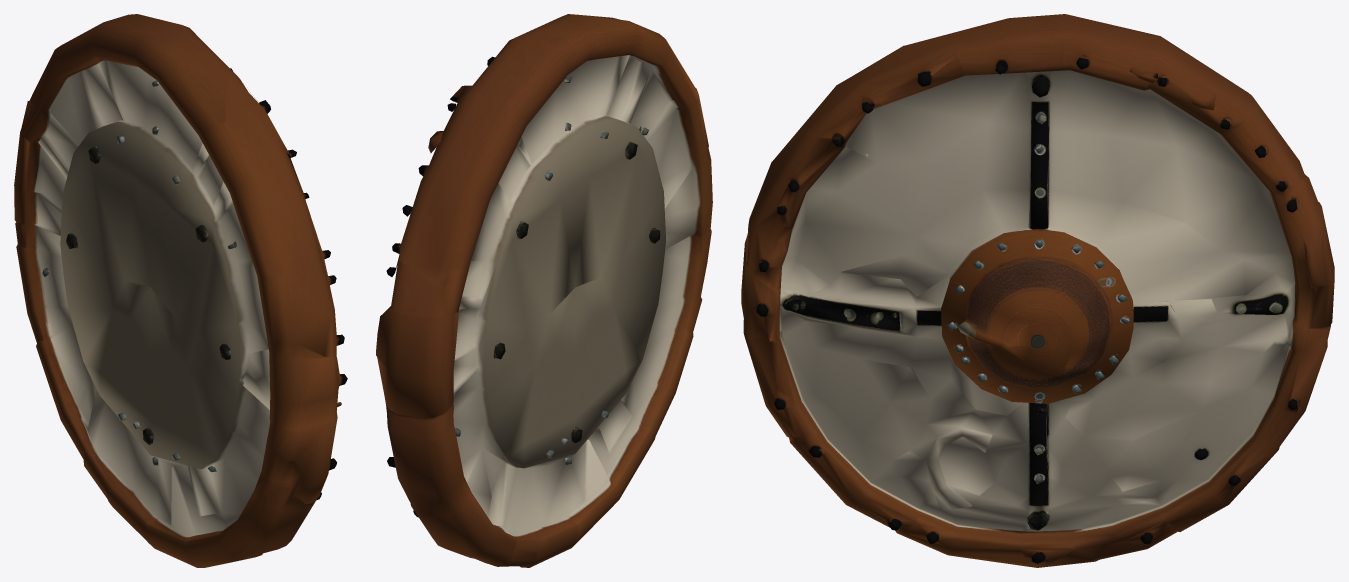
Rendered from gatewatch_round.glb.
3 views of the same model, side by side, from view 1: azimuth 30°, elevation 25°; view 2: azimuth 150°, elevation 25°; view 3: azimuth 270°, elevation 25° (orthographic). The views are drawn at different scales.
Parts seen in each view (by area): view 1: base_model_path; view 2: base_model_path; view 3: base_model_path.
Part boxes in pixels (<box>): base_model_path: <box>14,14,347,567</box>; base_model_path: <box>376,14,712,567</box>; base_model_path: <box>741,14,1334,567</box>.
Size of the model in its own units: 0.276 by 1 by 1.
Materials: 1 (1 with a texture image).
